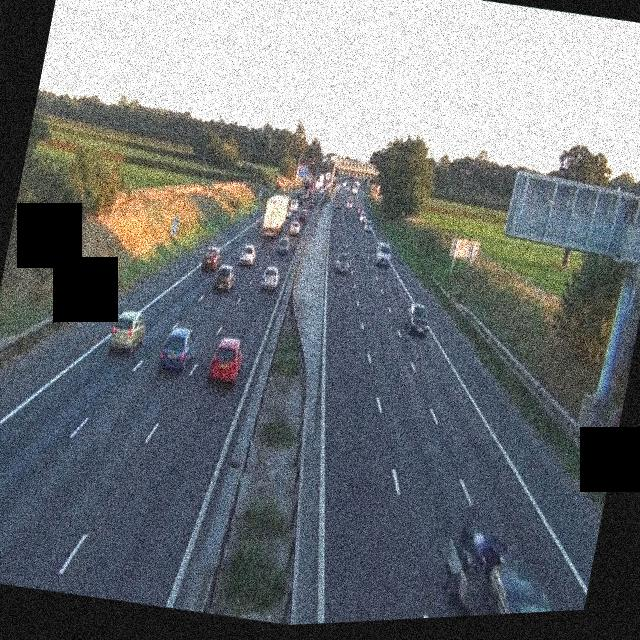car: (438, 510, 514, 617), (468, 559, 584, 616), (156, 321, 198, 376), (106, 306, 150, 356), (207, 335, 246, 388), (402, 300, 432, 338), (213, 263, 236, 293), (200, 245, 222, 274), (259, 264, 281, 292), (374, 241, 394, 269), (238, 244, 258, 270), (333, 249, 351, 274), (284, 217, 299, 237), (359, 218, 372, 234), (292, 214, 304, 229), (298, 208, 308, 221)
truck: (260, 190, 290, 239)
